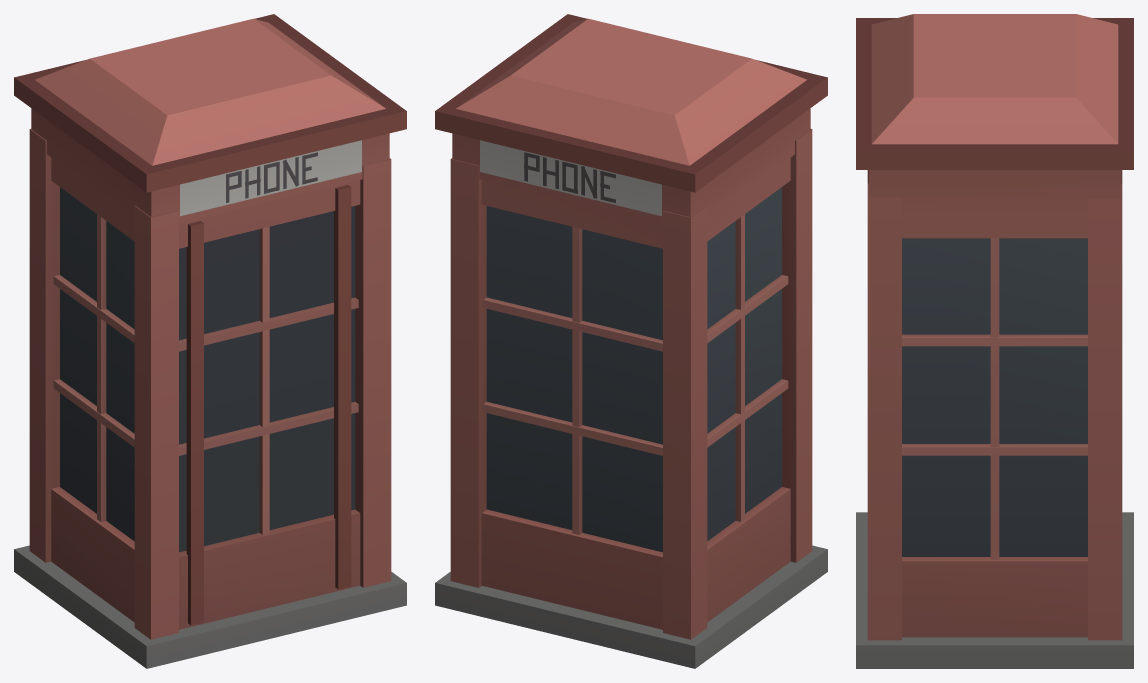
Rendered from phone.lod1.glb.
3 renders of one model, left to right at view 1: azimuth 30°, elevation 25°; view 2: azimuth 150°, elevation 25°; view 3: azimuth 270°, elevation 25°, orthographic. The views are drawn at different scales.
Bounding box in the file's own units: 1.2 × 2.3 × 1.06.
